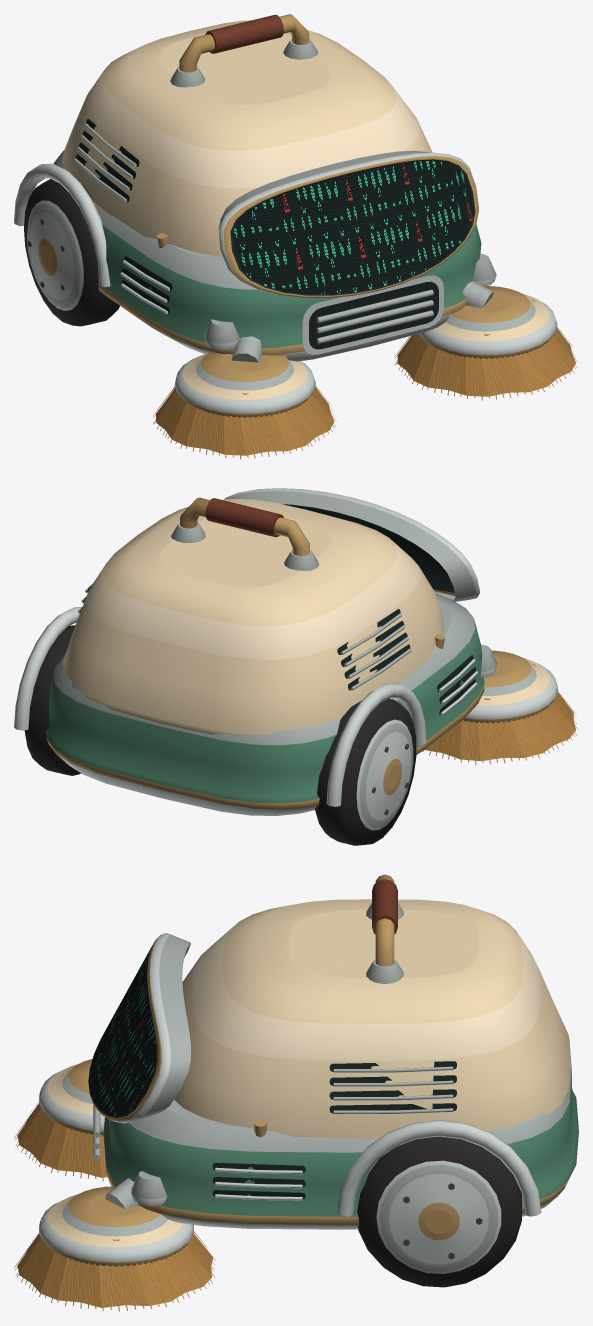
Rendered from Sweeper-L0.fbx.
3 views of the same model, one above another, from view 1: azimuth 30°, elevation 25°; view 2: azimuth 150°, elevation 25°; view 3: azimuth 270°, elevation 25° (orthographic). The views are drawn at different scales.
Visible parts, largest first — view 1: Sweeper_Body, Sweeper_Head_Face, Sweeper_BrushL, Sweeper_BrushR, Sweeper_WheelL; view 2: Sweeper_Body, Sweeper_WheelL, Sweeper_BrushL, Sweeper_WheelR; view 3: Sweeper_Body, Sweeper_WheelR, Sweeper_BrushR, Sweeper_BrushL, Sweeper_Head_Face.
Boxes of the visible parts, x1,y1,x2,y2 form: Sweeper_Body: (14, 14, 496, 362); Sweeper_Head_Face: (233, 160, 473, 294); Sweeper_BrushL: (153, 352, 336, 459); Sweeper_BrushR: (394, 286, 577, 400); Sweeper_WheelL: (24, 176, 119, 326); Sweeper_Body: (14, 488, 497, 815); Sweeper_WheelL: (315, 698, 416, 845); Sweeper_BrushL: (422, 650, 578, 764); Sweeper_WheelR: (24, 625, 80, 775); Sweeper_Body: (88, 874, 578, 1229); Sweeper_WheelR: (357, 1136, 521, 1287); Sweeper_BrushR: (14, 1186, 215, 1311); Sweeper_BrushL: (14, 1059, 107, 1181); Sweeper_Head_Face: (89, 945, 156, 1116).
Bounding box in the file's own units: 0.727 × 0.4826 × 0.8037.
Materials: 2 (2 with a texture image).
